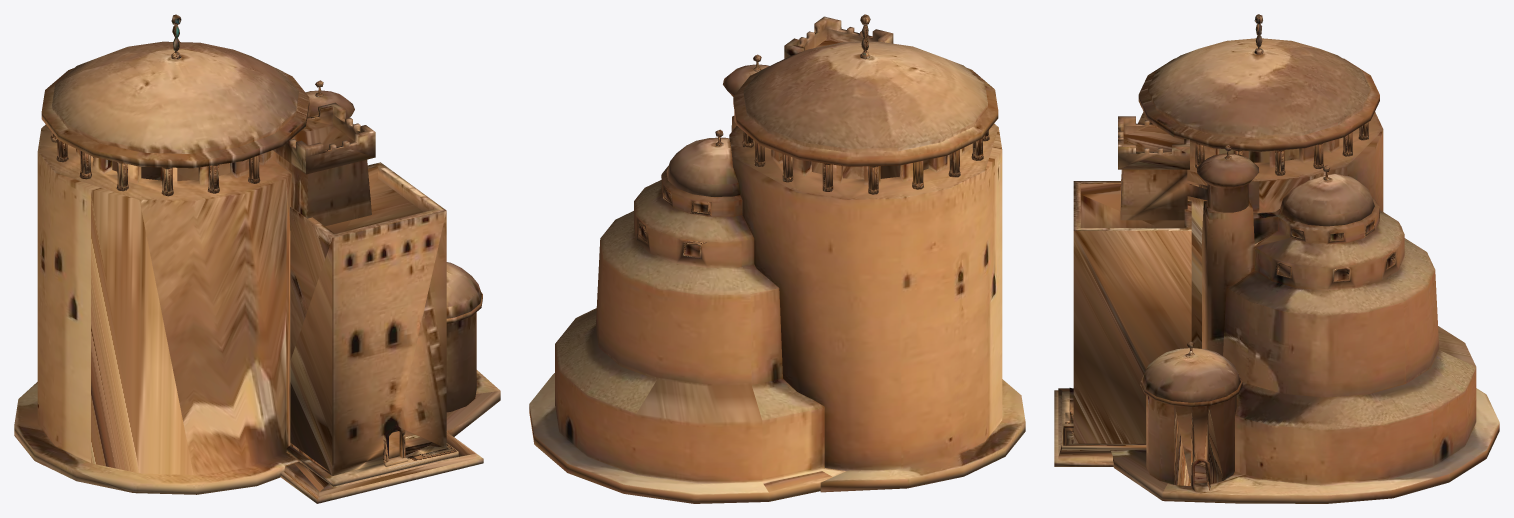
3 renders of one model, left to right at view 1: azimuth 30°, elevation 25°; view 2: azimuth 150°, elevation 25°; view 3: azimuth 270°, elevation 25°, orthographic. The views are drawn at different scales.
Visible parts, largest first — view 1: Untitled_5; view 2: Untitled_5; view 3: Untitled_5.
Part boxes in pixels (x1=…): Untitled_5: x1=14, y1=14, x2=500, y2=503; Untitled_5: x1=529, y1=14, x2=1025, y2=503; Untitled_5: x1=1054, y1=14, x2=1499, y2=503.
Bounding box in the file's own units: 1.94 × 1.83 × 2.
Materials: 1 (1 with a texture image).
